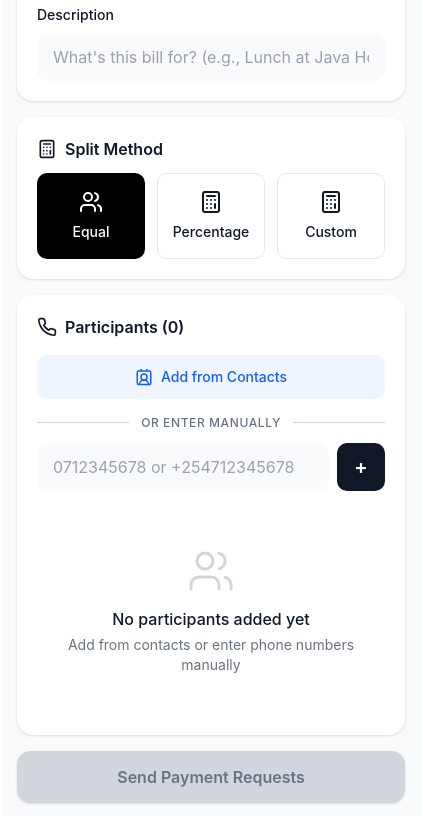
it: CreateNewBillPage › removes participant when remove button is clicked
The image size is (423, 816).
(page scrolled)
# Add a participant
In the field with placeholder "0712345678 or +254712345678": coordinates (183, 466) [37,442,329,490], type "+254712345678"
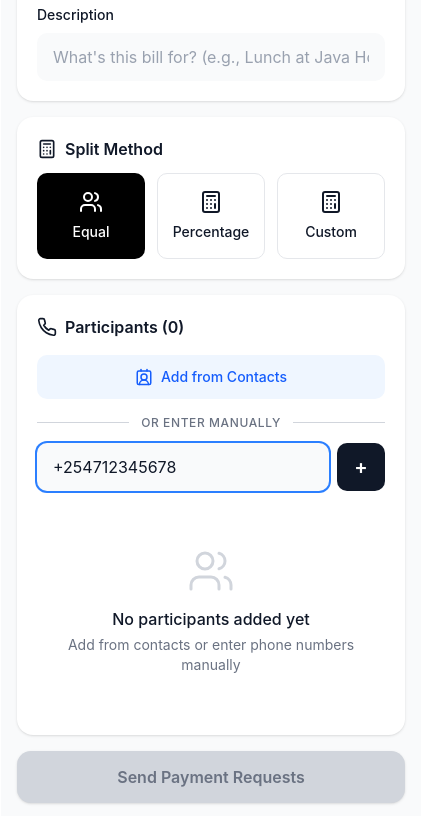
Click the button "+": coordinates (361, 466) [337,442,385,490]
(page scrolled)
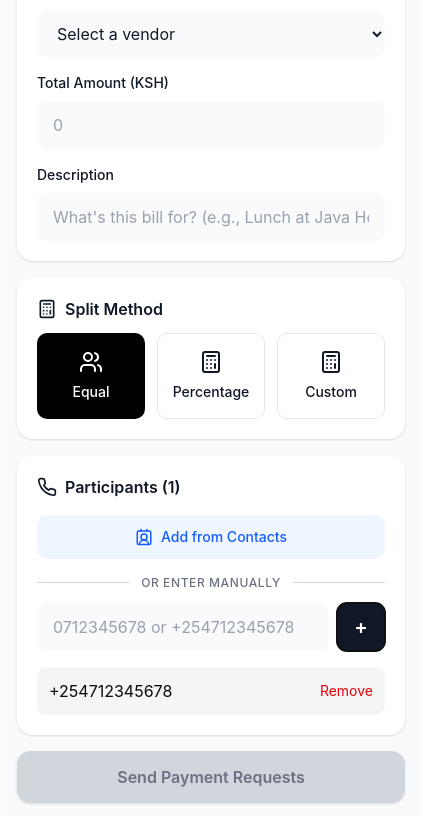
# Remove the participant
Click the button "Remove": coordinates (346, 690) [320,680,373,700]
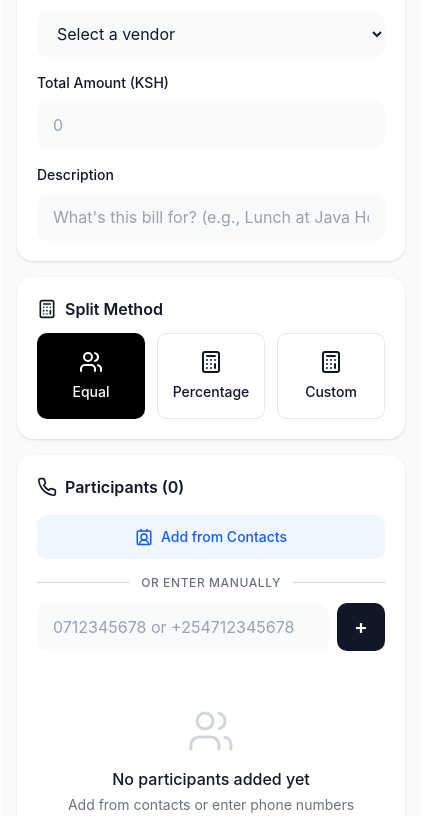
Result: the heading "Participants (0)" is shown at [65,474,184,498]
